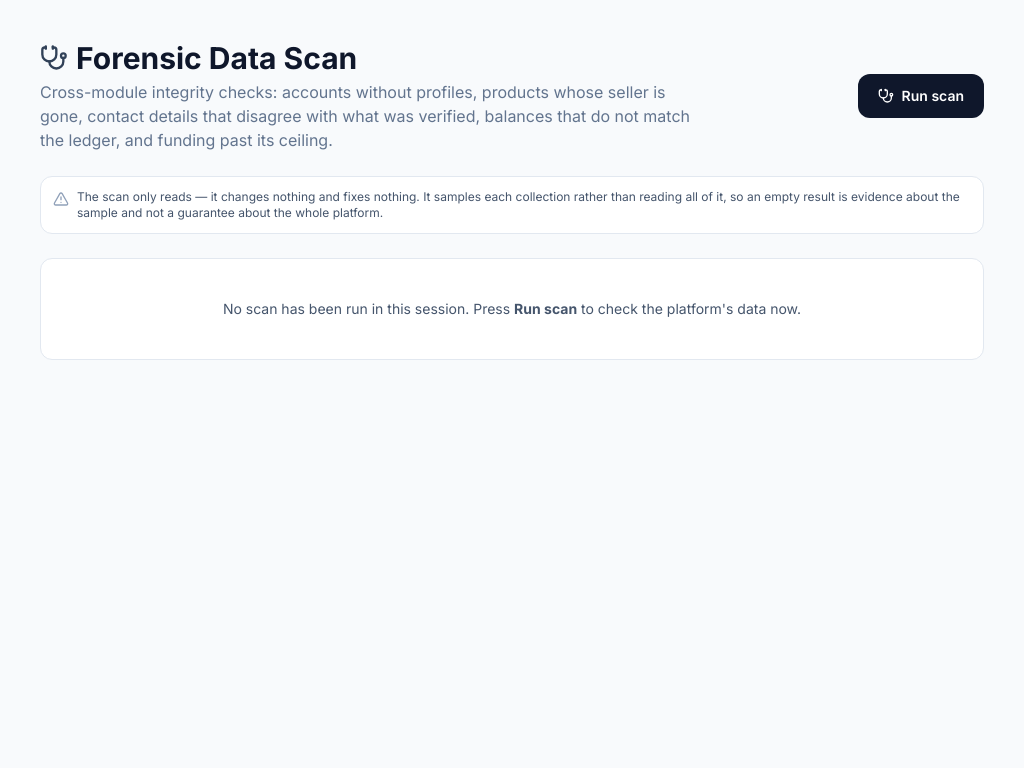
Scenario: #475 — the one finding is not buried › AND THEY ARE LABELLED AS A GAP, NOT AS A FINDING
Step 1. Click the button "Run scan" → (921, 96), box [858,74,984,118]
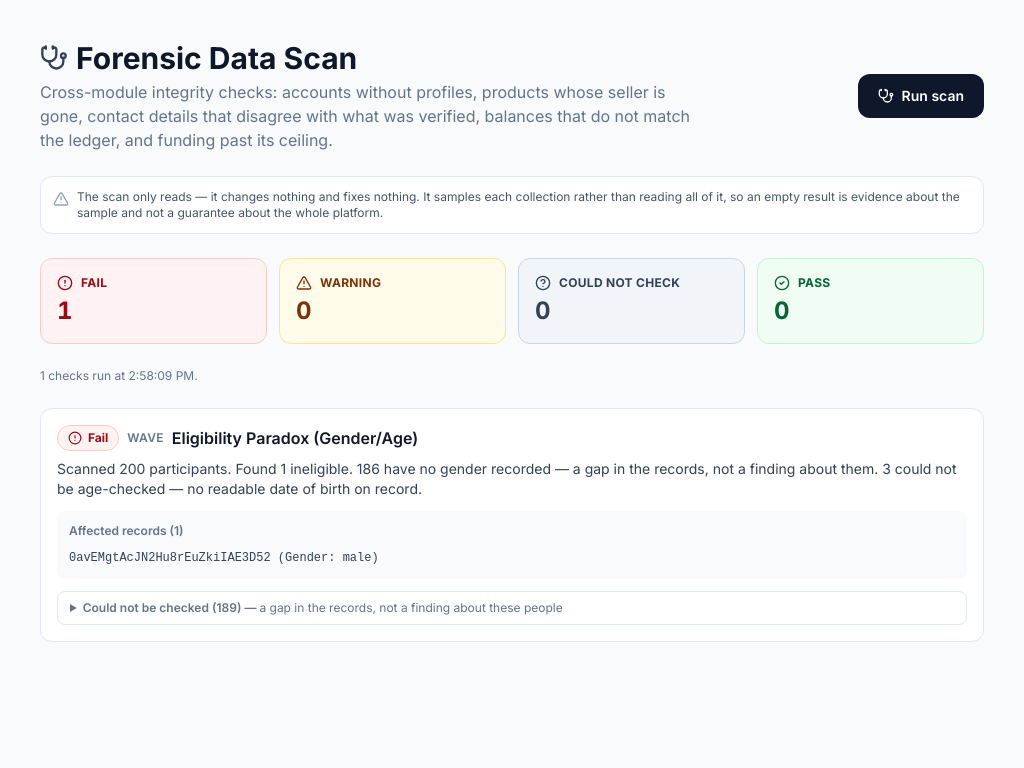
Check: the text "a gap in the records, not a finding about these people" is shown, box [259,600,563,615]
